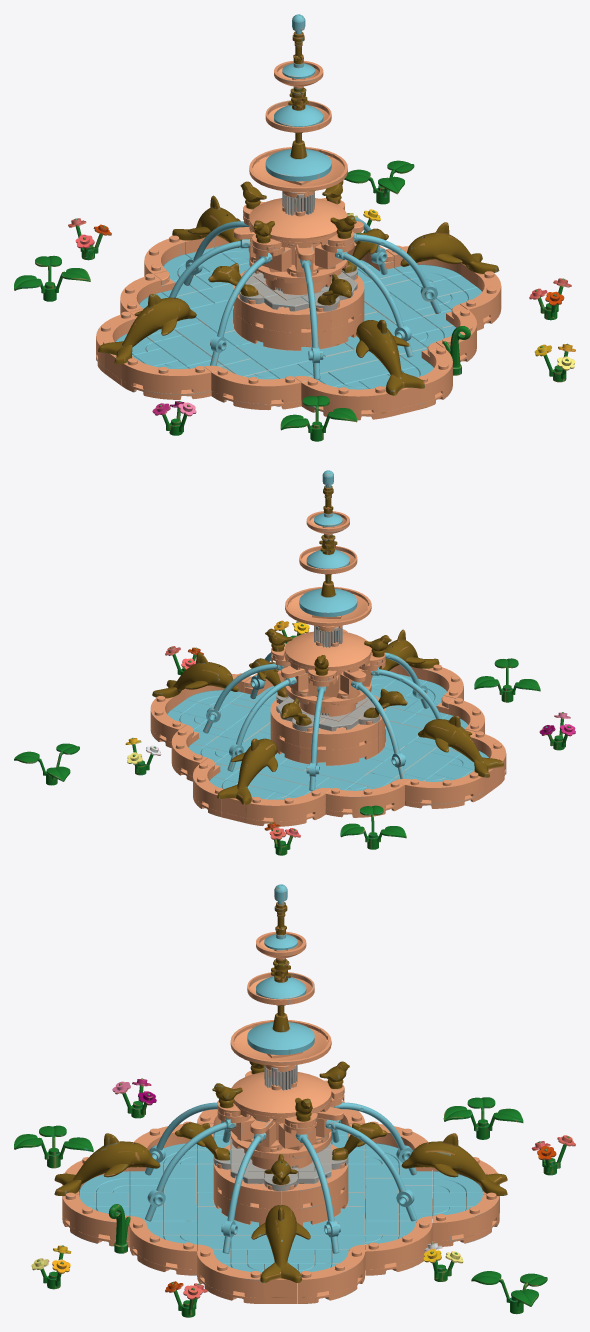
Rendered from Fountain.fbx.
3 views of the same model, one above another, from view 1: azimuth 30°, elevation 25°; view 2: azimuth 150°, elevation 25°; view 3: azimuth 270°, elevation 25° (orthographic). The views are drawn at different scales.
Parts seen in each view (by area): view 1: TO; view 2: TO; view 3: TO.
Boxes of the visible parts, x1=… form: TO: x1=14, y1=14, x2=575, y2=441; TO: x1=14, y1=470, x2=575, y2=855; TO: x1=14, y1=884, x2=575, y2=1317.
Bounding box in the file's own units: 25150 × 17121 × 26710.
1 material, 1 textured.
